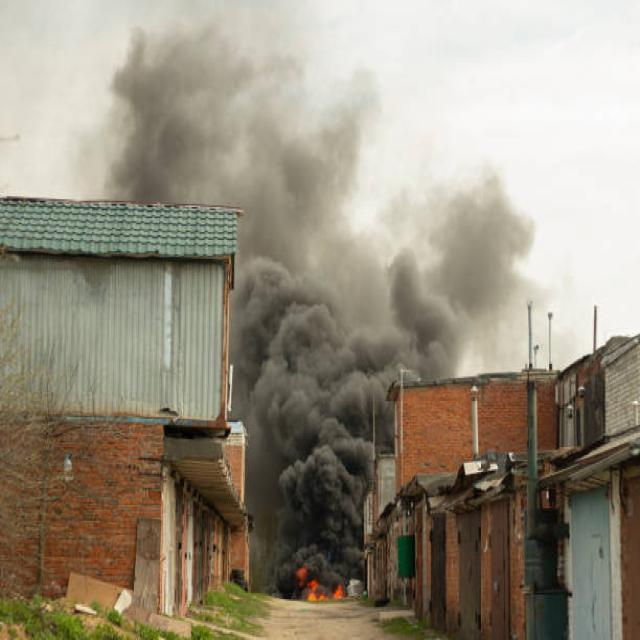Fire: (290, 568, 340, 608)
Smoke: (54, 0, 337, 197), (247, 207, 364, 562), (358, 180, 519, 358)
